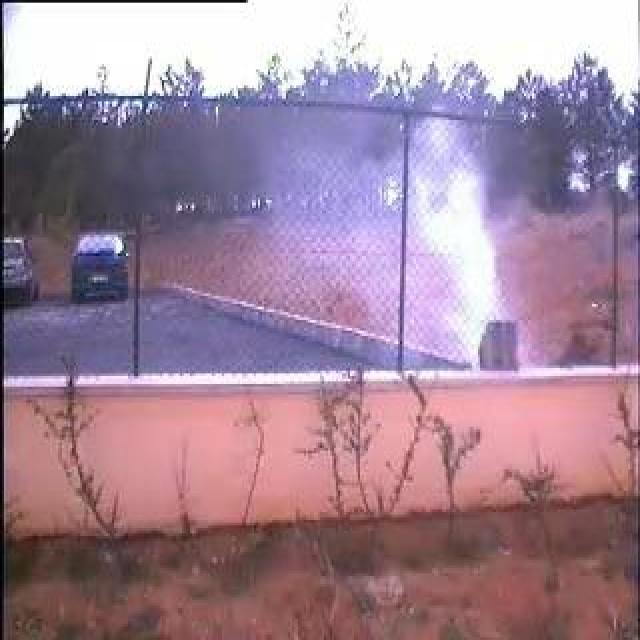Smoke: (392, 120, 546, 371)
